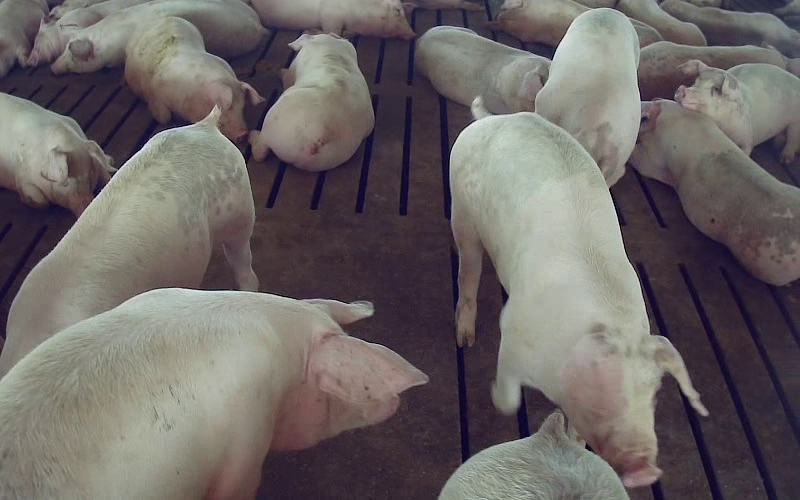pig: (0, 291, 426, 497), (0, 108, 257, 377), (629, 99, 799, 284), (535, 8, 640, 186), (124, 17, 263, 141), (249, 34, 373, 170), (51, 0, 267, 73), (675, 60, 799, 162), (416, 26, 550, 113), (638, 41, 799, 99), (660, 0, 799, 57), (252, 0, 414, 39), (616, 0, 706, 45)
